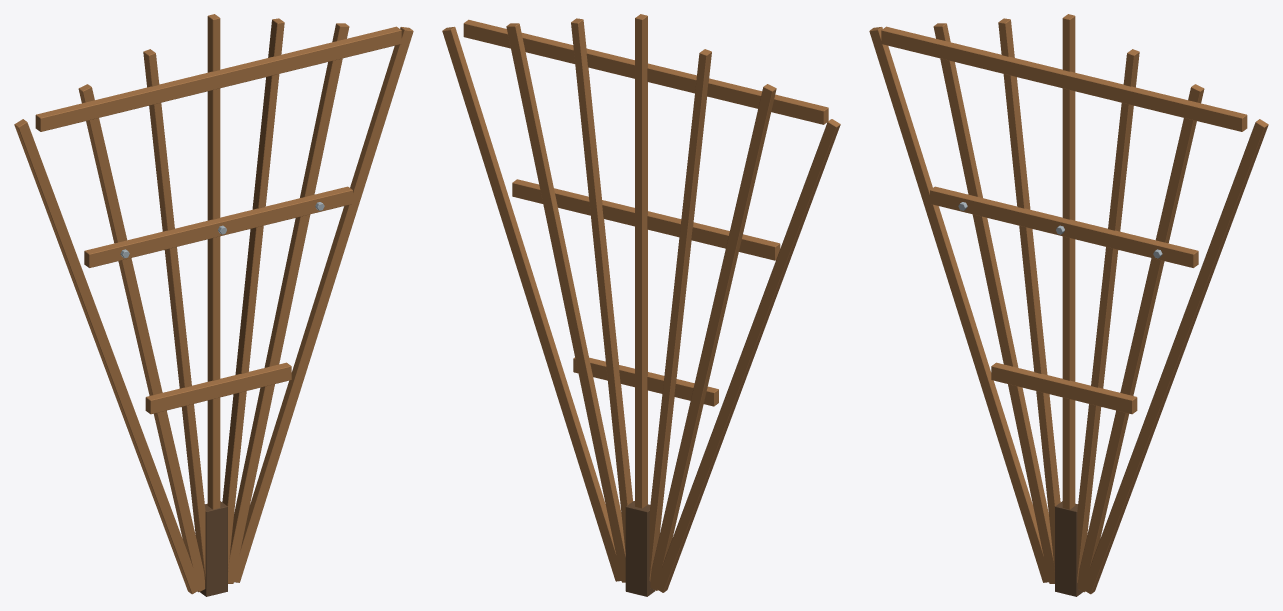
Rendered from b11_fan_climbing_trellis.glb.
The picture shows the model from 3 angles, left to right: view 1: azimuth 30°, elevation 25°; view 2: azimuth 150°, elevation 25°; view 3: azimuth 330°, elevation 25°; orthographic projection.
Visible parts, largest first — view 1: b11_fan_climbing_trellis; view 2: b11_fan_climbing_trellis; view 3: b11_fan_climbing_trellis.
Boxes of the visible parts, <box> form: b11_fan_climbing_trellis: <box>14,14,413,596</box>; b11_fan_climbing_trellis: <box>442,14,840,596</box>; b11_fan_climbing_trellis: <box>869,14,1268,596</box>.
Bounding box in the file's own units: 1.26 × 1.75 × 0.0815.
